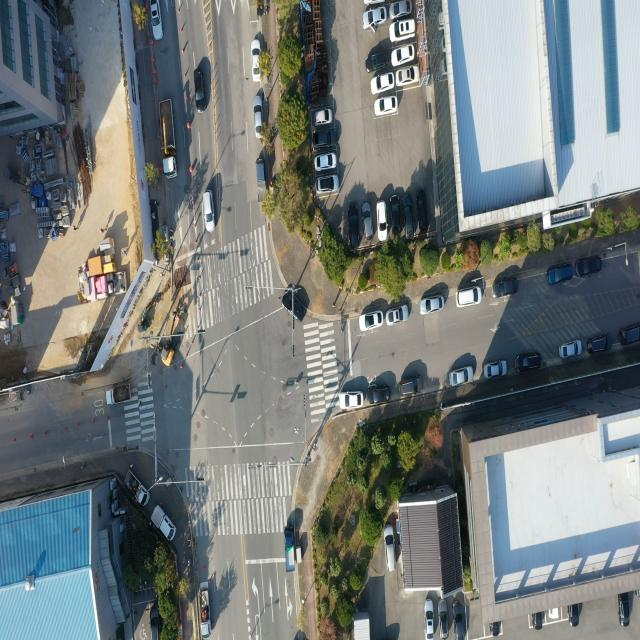car: (364, 46, 392, 76), (280, 290, 304, 320), (547, 261, 574, 287), (150, 0, 165, 43), (619, 590, 635, 629), (338, 387, 364, 411), (253, 94, 266, 140), (491, 278, 518, 299), (383, 524, 395, 571), (363, 6, 388, 28), (416, 188, 429, 230), (375, 96, 399, 118), (390, 20, 414, 42), (455, 286, 481, 306), (576, 256, 602, 276), (437, 600, 450, 639), (449, 365, 474, 385), (391, 44, 414, 65), (359, 312, 383, 332), (385, 306, 409, 326), (517, 352, 542, 371), (372, 73, 394, 94), (204, 190, 215, 232), (403, 194, 414, 236), (483, 359, 507, 378), (391, 192, 401, 237), (454, 601, 466, 638), (420, 295, 443, 314), (559, 341, 583, 359), (622, 324, 640, 348), (396, 66, 418, 85), (377, 202, 388, 240), (315, 175, 337, 194), (585, 336, 608, 354), (368, 386, 391, 404), (389, 1, 410, 20), (314, 154, 336, 172), (480, 365, 502, 383), (349, 205, 358, 247), (314, 130, 335, 148), (251, 39, 260, 81), (423, 598, 432, 640), (567, 602, 582, 627), (401, 379, 421, 397), (193, 70, 203, 104), (361, 204, 371, 238), (314, 108, 333, 125), (362, 0, 386, 5)
medium_truck: (158, 95, 178, 182)
small_truck: (125, 469, 148, 505), (153, 505, 174, 544), (199, 580, 213, 638), (282, 528, 297, 582), (256, 153, 268, 203), (105, 384, 130, 406)
